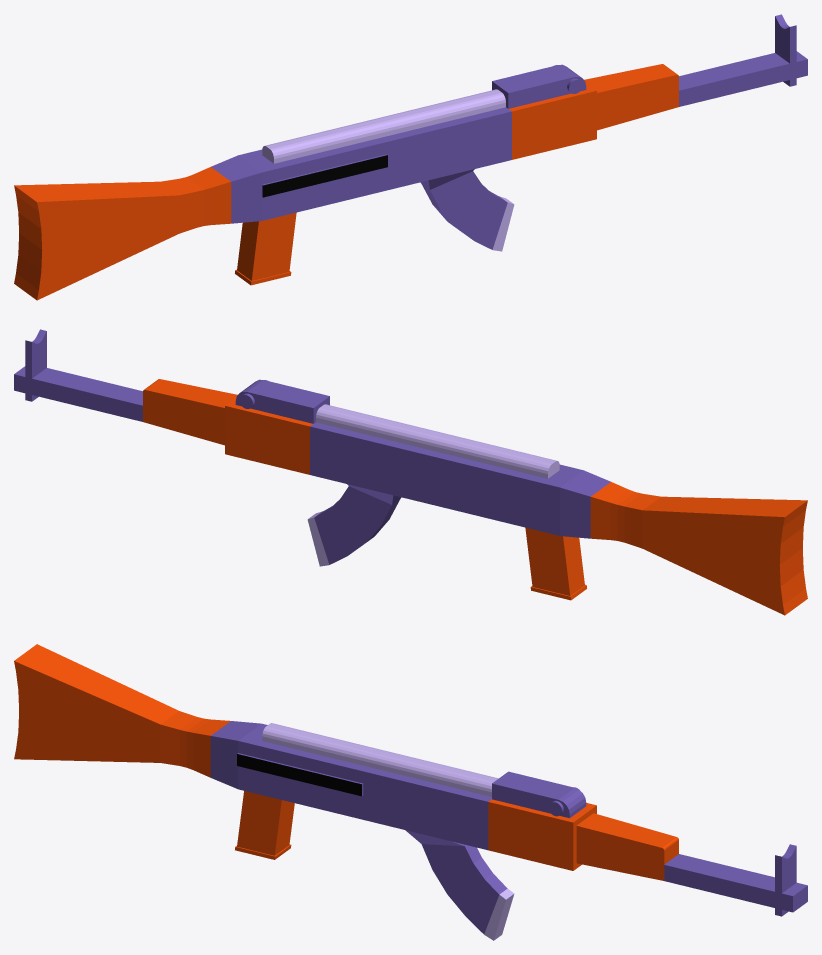
The model's file is trick_weapon.fbx.
The picture shows the model from 3 angles, top to bottom: view 1: azimuth 30°, elevation 25°; view 2: azimuth 150°, elevation 25°; view 3: azimuth 330°, elevation 25°; orthographic projection.
Parts seen in each view (by area): view 1: Cube; view 2: Cube; view 3: Cube.
Part boxes in pixels (x1,y1,x2,y2): Cube: (14,14,807,300); Cube: (14,329,807,615); Cube: (14,644,807,940).
Bounding box in the file's own units: 183 × 38.31 × 10.11.
